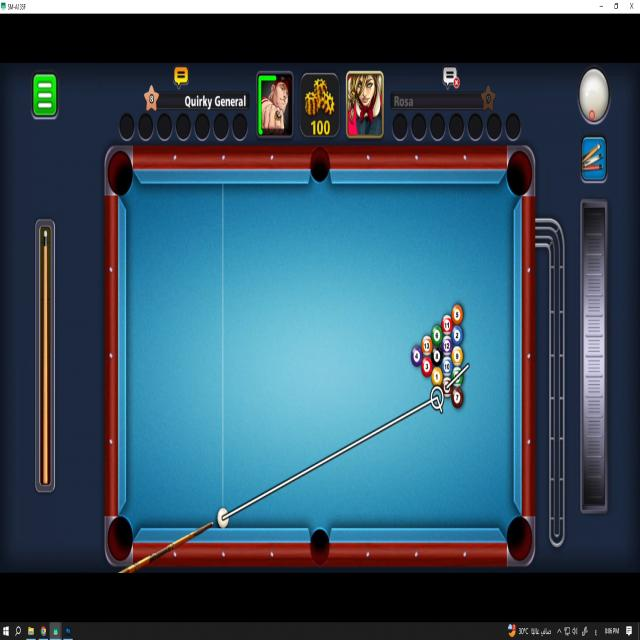object_ball: (451, 387, 463, 408), (451, 346, 463, 366), (441, 335, 453, 355), (431, 367, 443, 386), (441, 357, 453, 376), (441, 315, 452, 335), (431, 326, 442, 346), (411, 347, 422, 366), (431, 347, 442, 366), (452, 304, 462, 324), (422, 357, 432, 377), (452, 326, 462, 346), (422, 336, 432, 355), (443, 377, 451, 397), (452, 367, 460, 379)
white_cue_ball: (217, 508, 229, 528)
